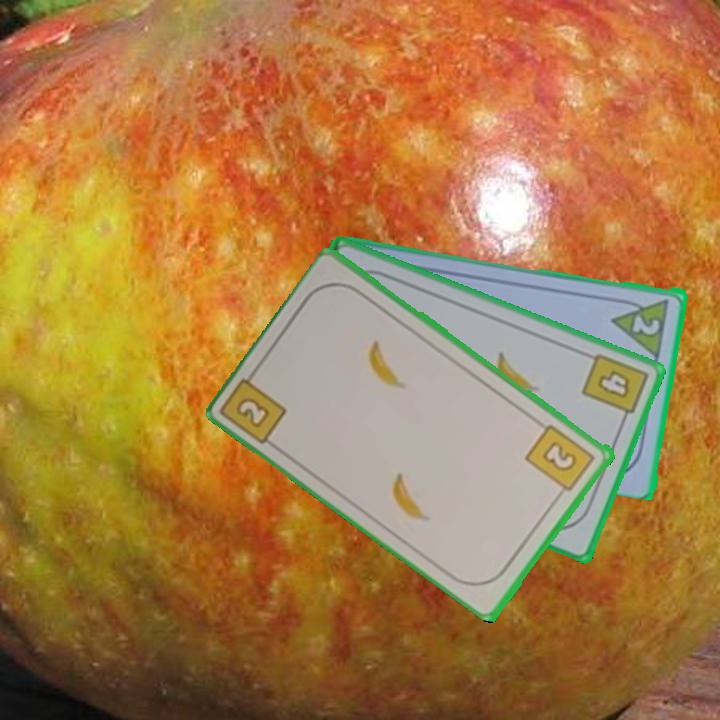2b: (522, 420, 599, 501), (220, 364, 291, 447)
2p: (609, 294, 673, 359)
4b: (578, 349, 651, 427)
